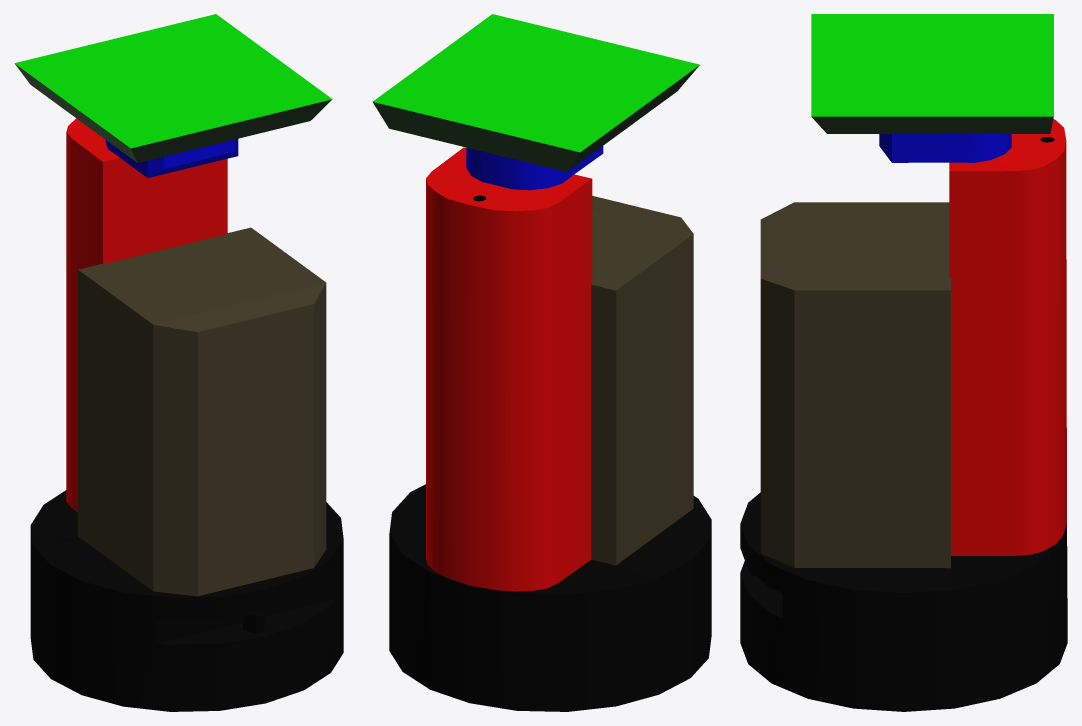
The model's file is Robot+SepColor.fbx.
The picture shows the model from 3 angles, left to right: view 1: azimuth 30°, elevation 25°; view 2: azimuth 150°, elevation 25°; view 3: azimuth 270°, elevation 25°; orthographic projection. The views are drawn at different scales.
Visible parts, largest first — view 1: pCube71; view 2: pCube71; view 3: pCube71.
Boxes of the visible parts, x1,y1,x2,y2 form: pCube71: (14,14,343,711); pCube71: (372,14,711,711); pCube71: (740,14,1067,711).
Bounding box in the file's own units: 4.8 × 9.34 × 4.8.
